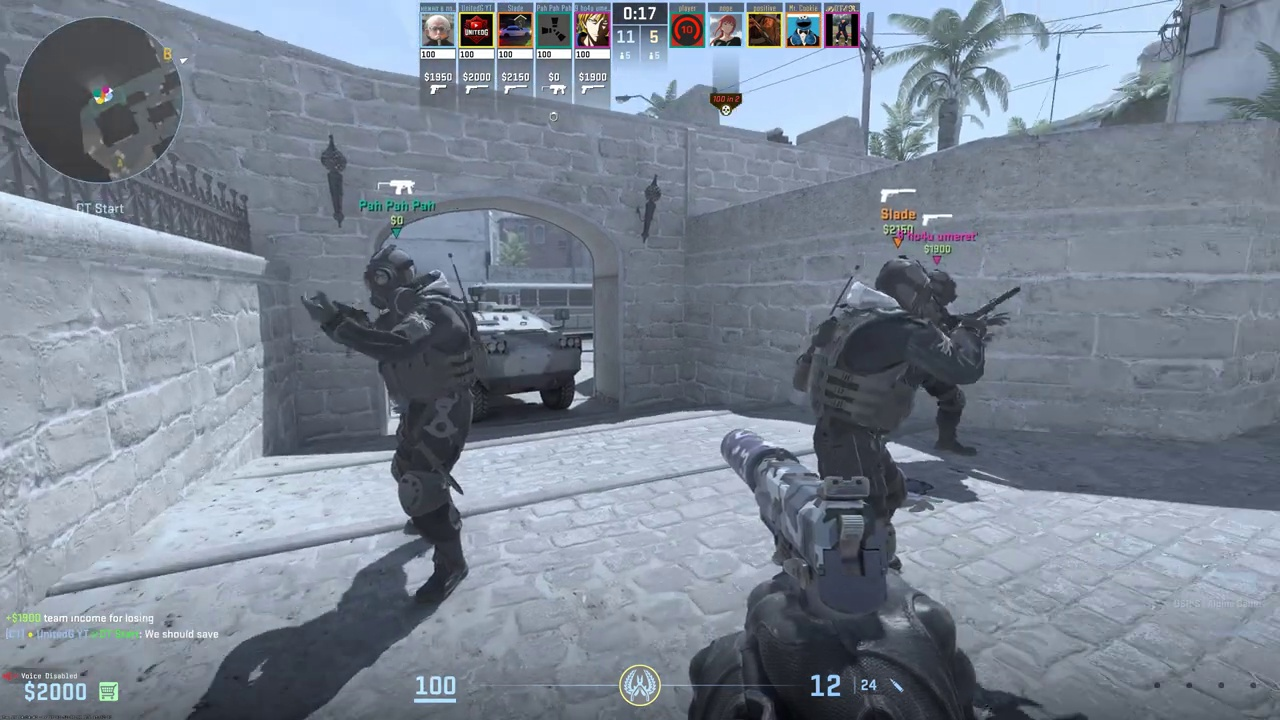CT: (809, 257, 956, 564), (358, 247, 482, 592)
